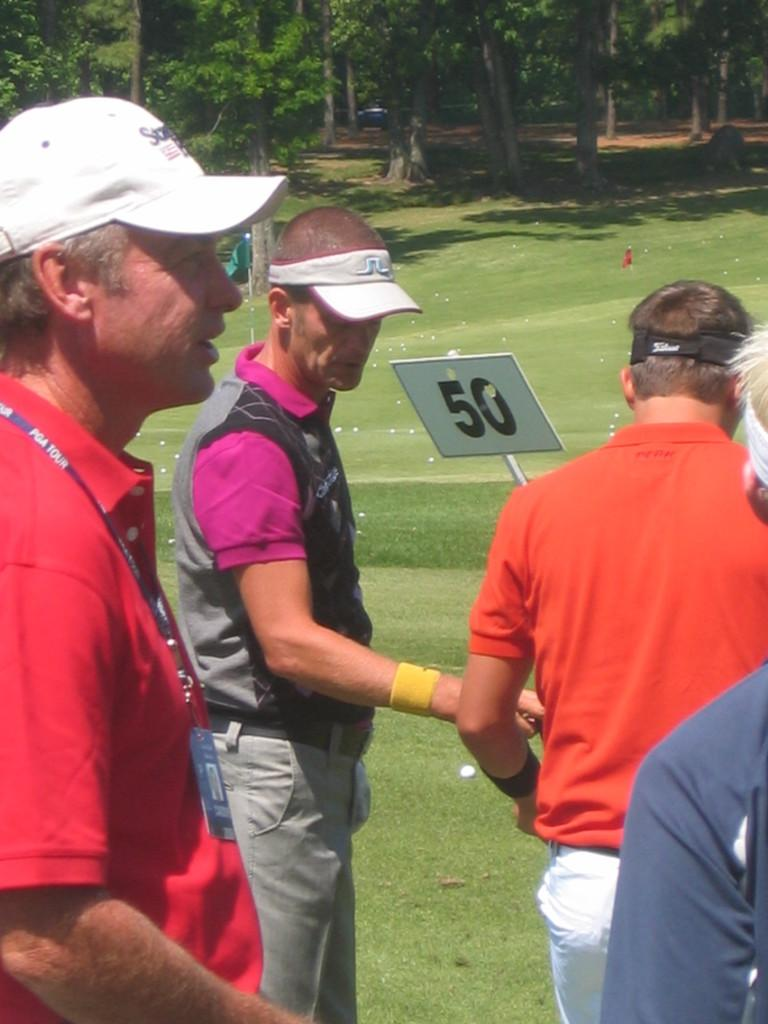Hat: (0, 94, 291, 268)
